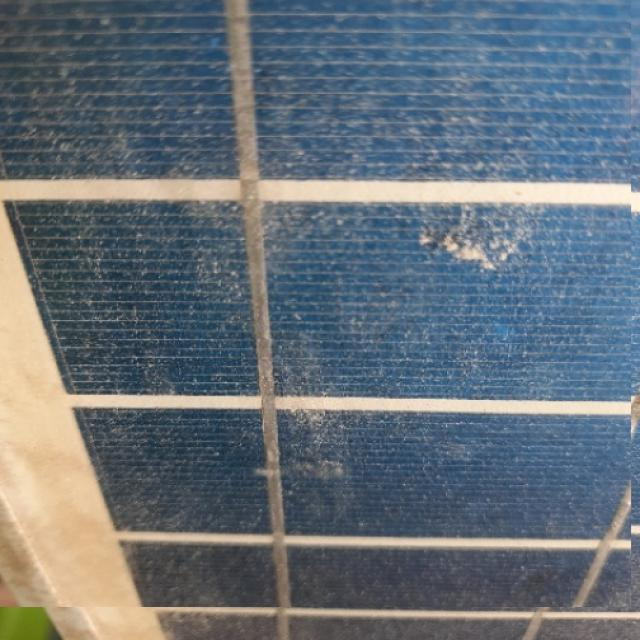Dirty: (0, 0, 631, 607)
